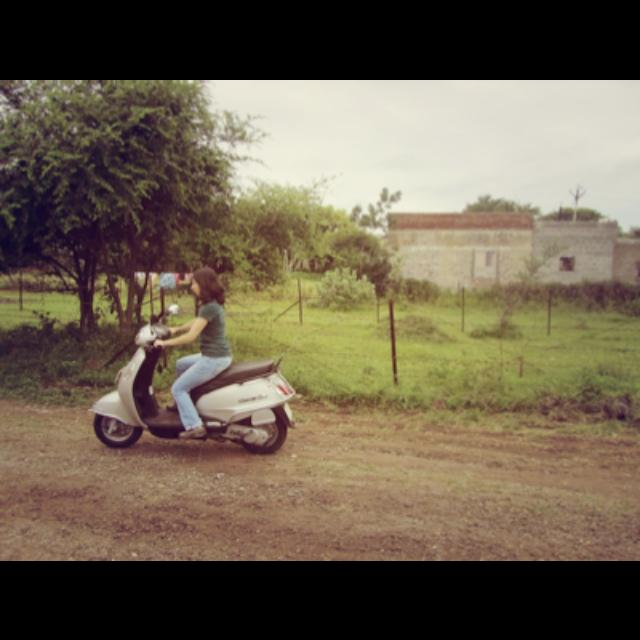Without Helmet: (186, 266, 220, 300)
